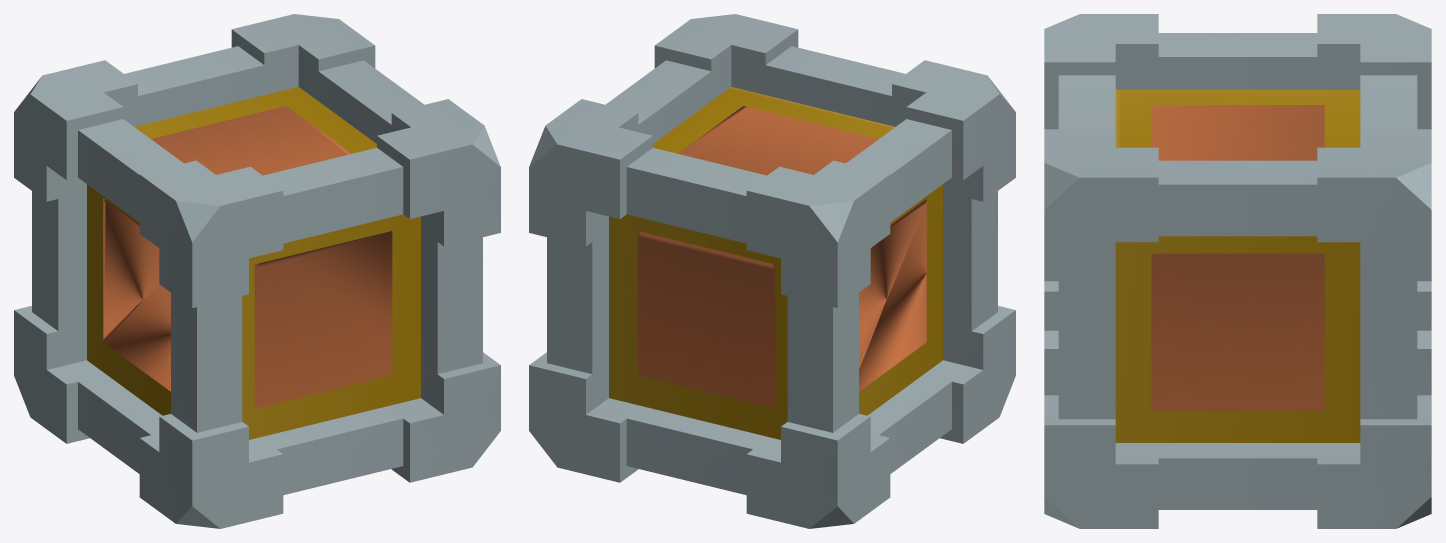
Rendered from crateStrong.glb.
3 renders of one model, left to right at view 1: azimuth 30°, elevation 25°; view 2: azimuth 150°, elevation 25°; view 3: azimuth 270°, elevation 25°, orthographic. The views are drawn at different scales.
Visible parts, largest first — view 1: crateStrong; view 2: crateStrong; view 3: crateStrong.
Part boxes in pixels (bbox=[...]): crateStrong: bbox=[14, 14, 500, 528]; crateStrong: bbox=[529, 14, 1015, 528]; crateStrong: bbox=[1044, 14, 1431, 528].
Bounding box in the file's own units: 0.54 × 0.54 × 0.54.
1 material, 1 textured.
